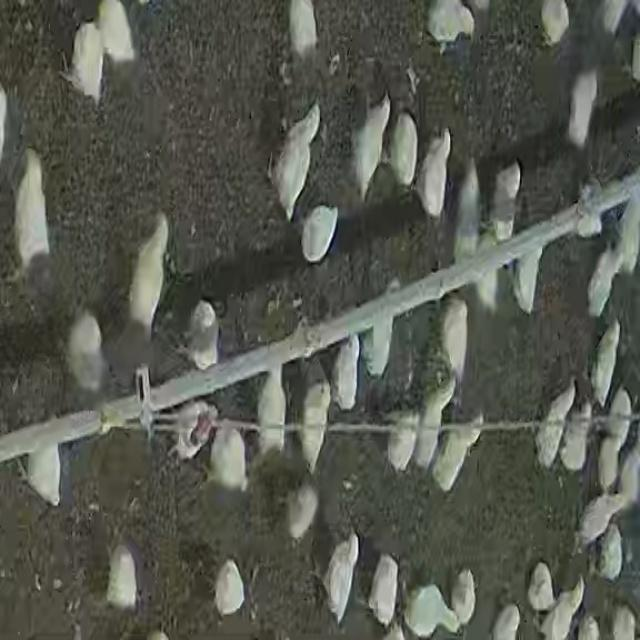chicken: (274, 102, 322, 219), (15, 152, 52, 275), (133, 208, 168, 335), (413, 381, 456, 475), (362, 278, 400, 379), (435, 418, 483, 489), (67, 311, 106, 397), (357, 97, 391, 195), (324, 529, 358, 621), (404, 584, 462, 637), (536, 388, 573, 468), (68, 22, 104, 103), (256, 367, 288, 458), (420, 126, 452, 216), (587, 242, 625, 316), (301, 380, 332, 470), (453, 159, 481, 257), (543, 574, 583, 640), (441, 300, 469, 392), (208, 426, 247, 492), (97, 0, 137, 64), (186, 298, 220, 372), (389, 108, 419, 190), (491, 160, 522, 239), (568, 64, 599, 143), (515, 231, 544, 315), (593, 321, 621, 407), (558, 397, 590, 472), (473, 226, 501, 309), (106, 543, 139, 612), (427, 1, 481, 43), (576, 495, 622, 544), (26, 443, 62, 505), (368, 554, 399, 626), (616, 186, 640, 278), (300, 205, 338, 262), (385, 412, 418, 474), (611, 444, 640, 512), (214, 558, 248, 616), (288, 0, 320, 61), (334, 336, 360, 406), (606, 386, 633, 452), (290, 481, 320, 540), (448, 568, 476, 626), (597, 428, 622, 489), (527, 561, 556, 610), (598, 0, 628, 36)
